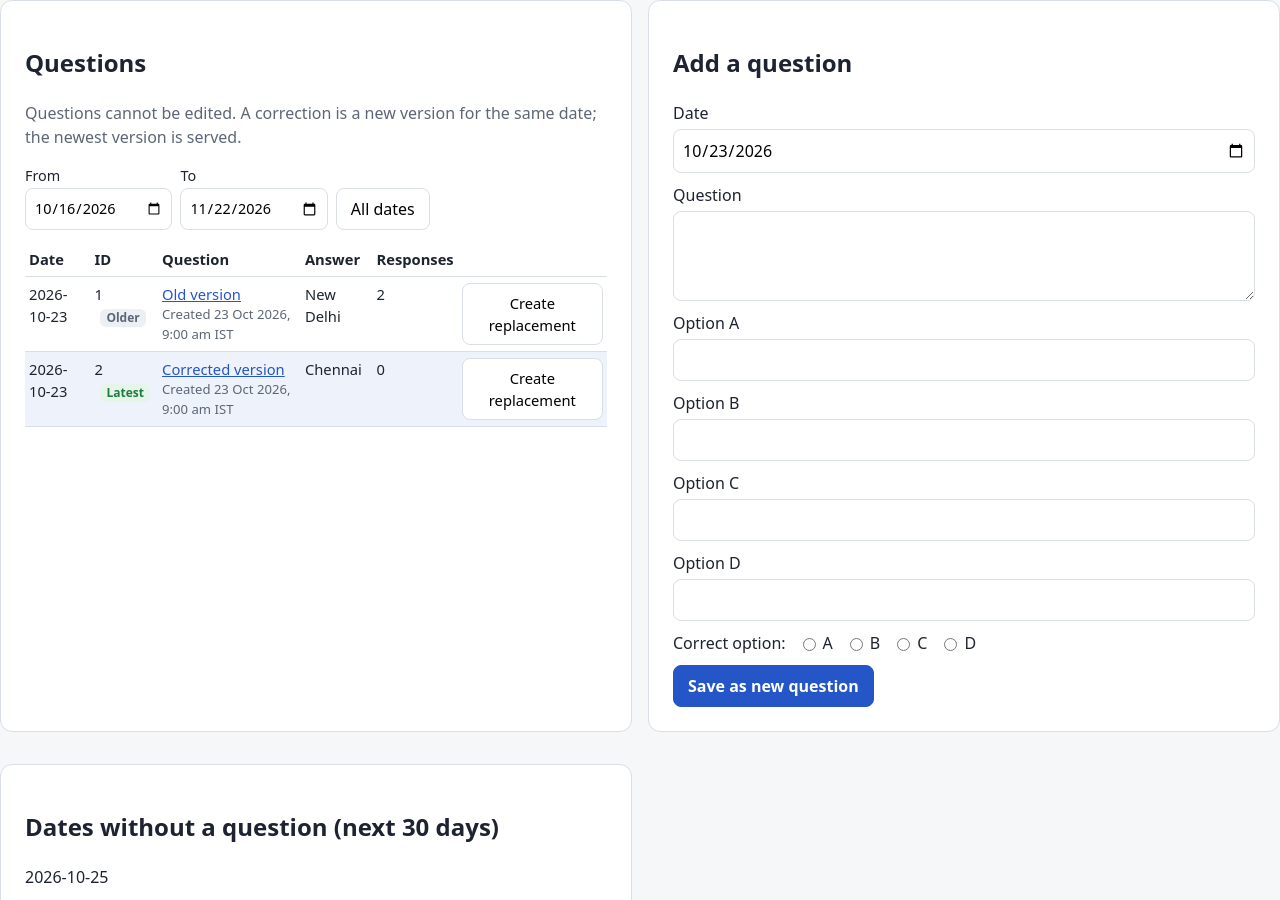
Test: Admin › converts the chosen correct option to its actual text before inserting
Type "Which planet is red?" into the text box labelled "Question" at (964, 256), box [673,211,1255,301]
Type "Venus" into the field labelled "Option A" at (964, 360), box [673,339,1255,381]
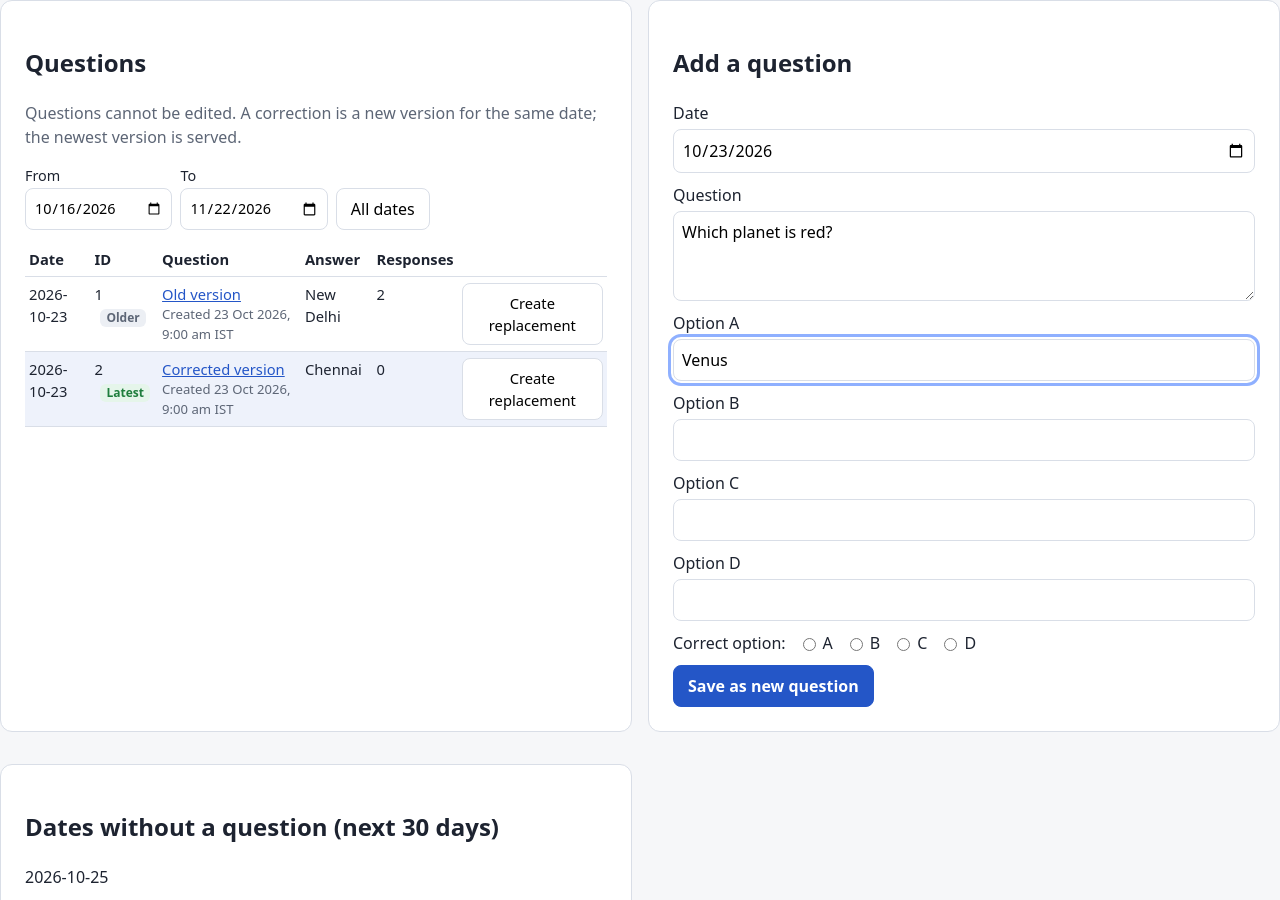
Type "Mars" into the field labelled "Option B" at (964, 440), box [673,419,1255,461]
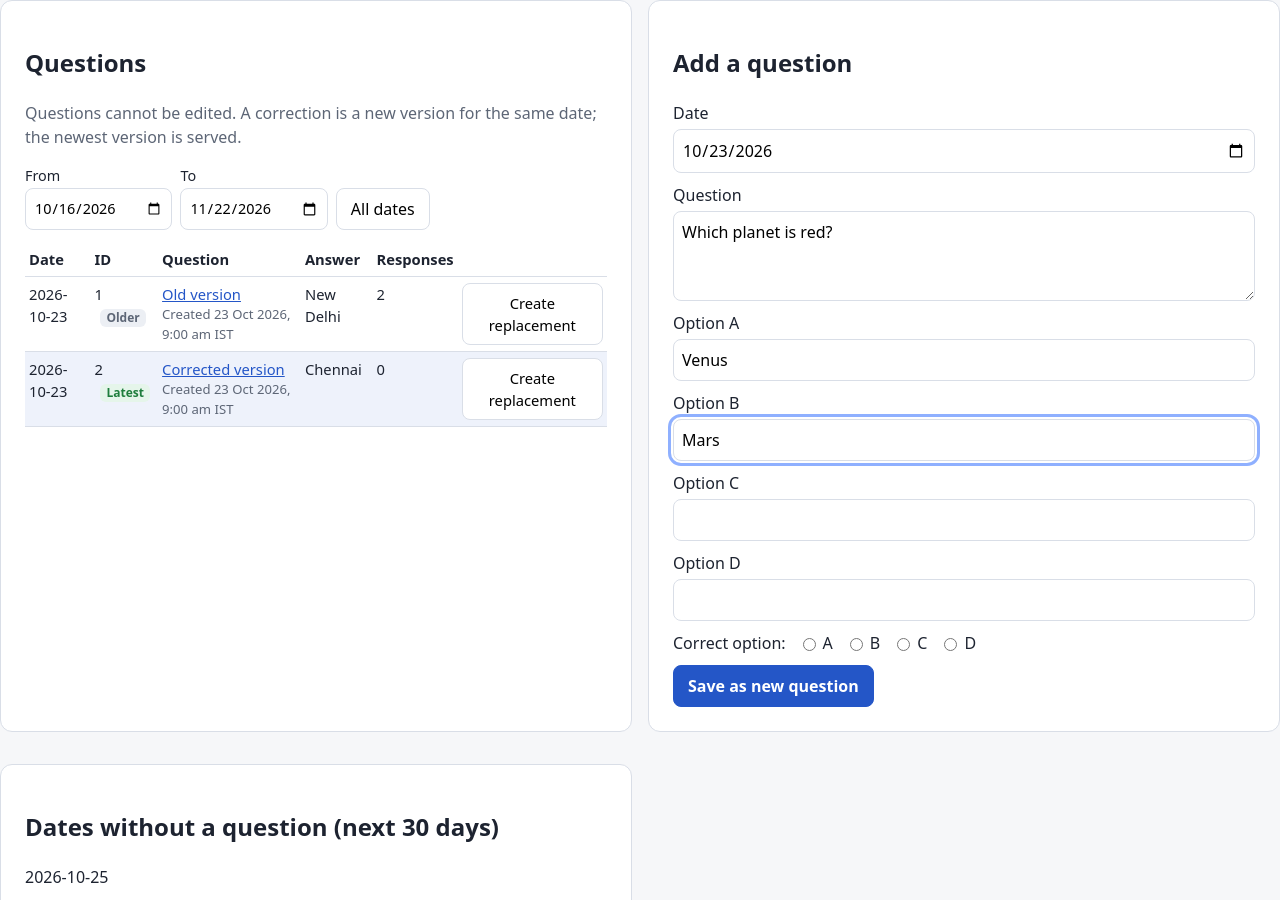
Type "Jupiter" into the field labelled "Option C" at (964, 520), box [673,499,1255,541]
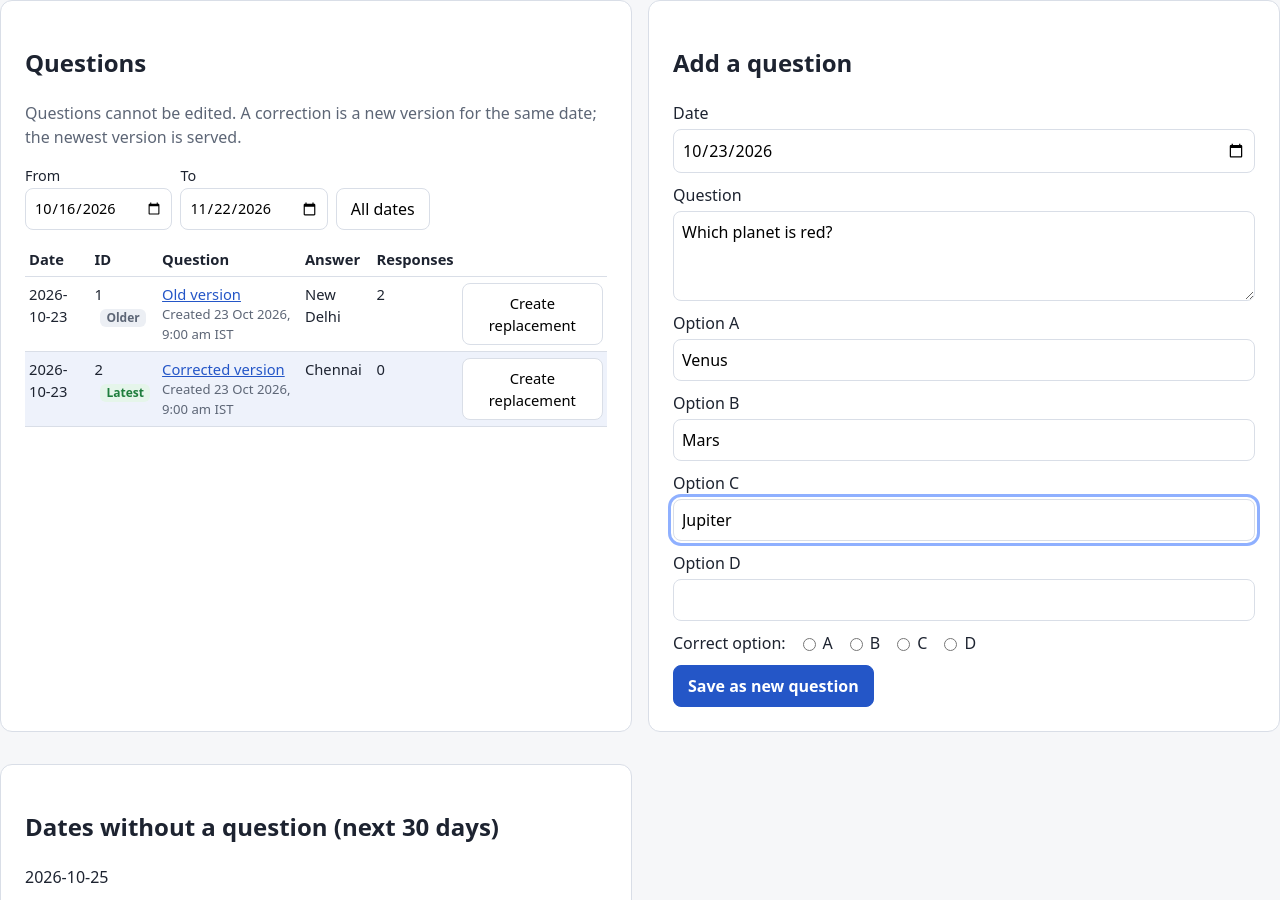
Type "Mercury" into the field labelled "Option D" at (964, 600), box [673,579,1255,621]
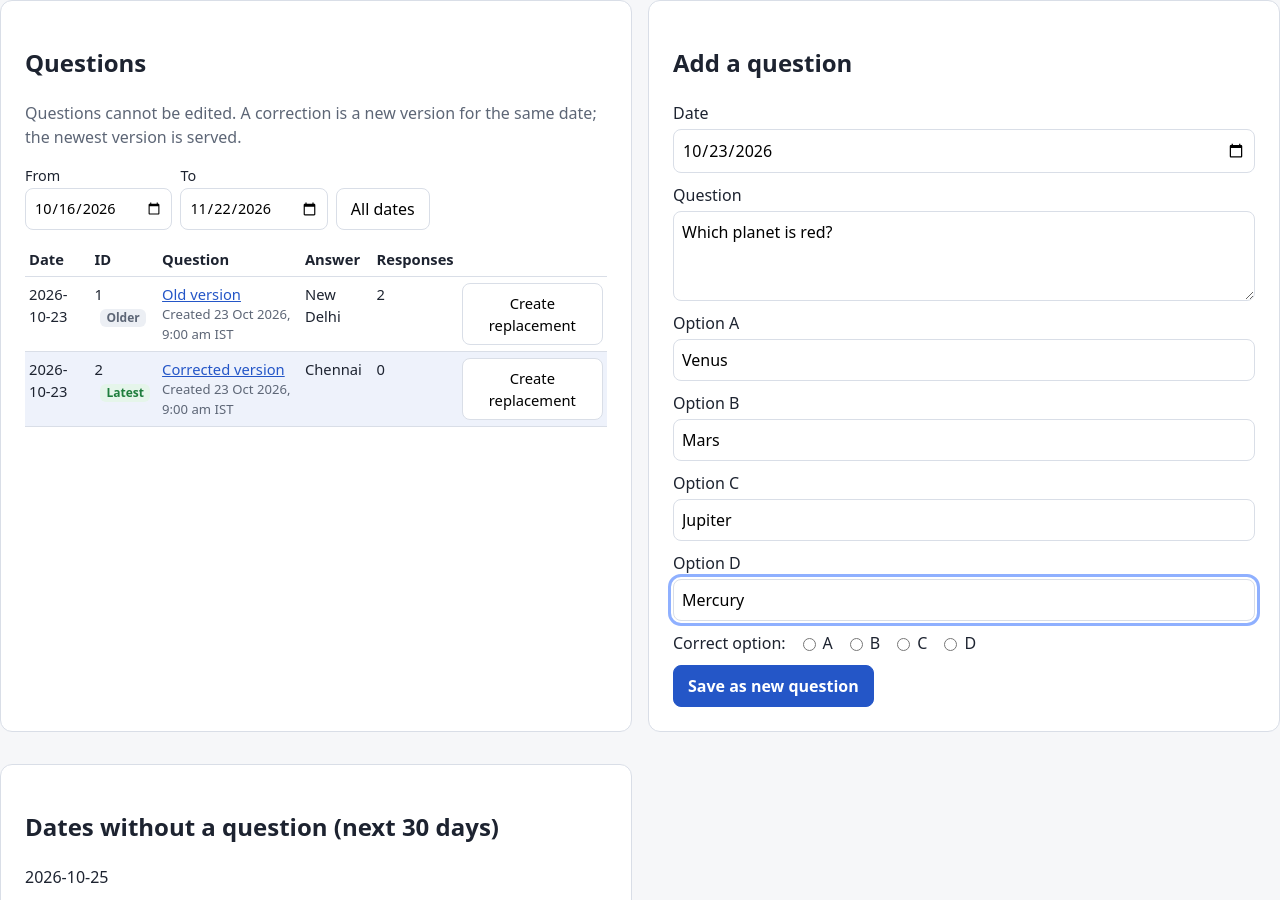
Click the radio button labelled "B" at (856, 644), box [850,634,863,655]
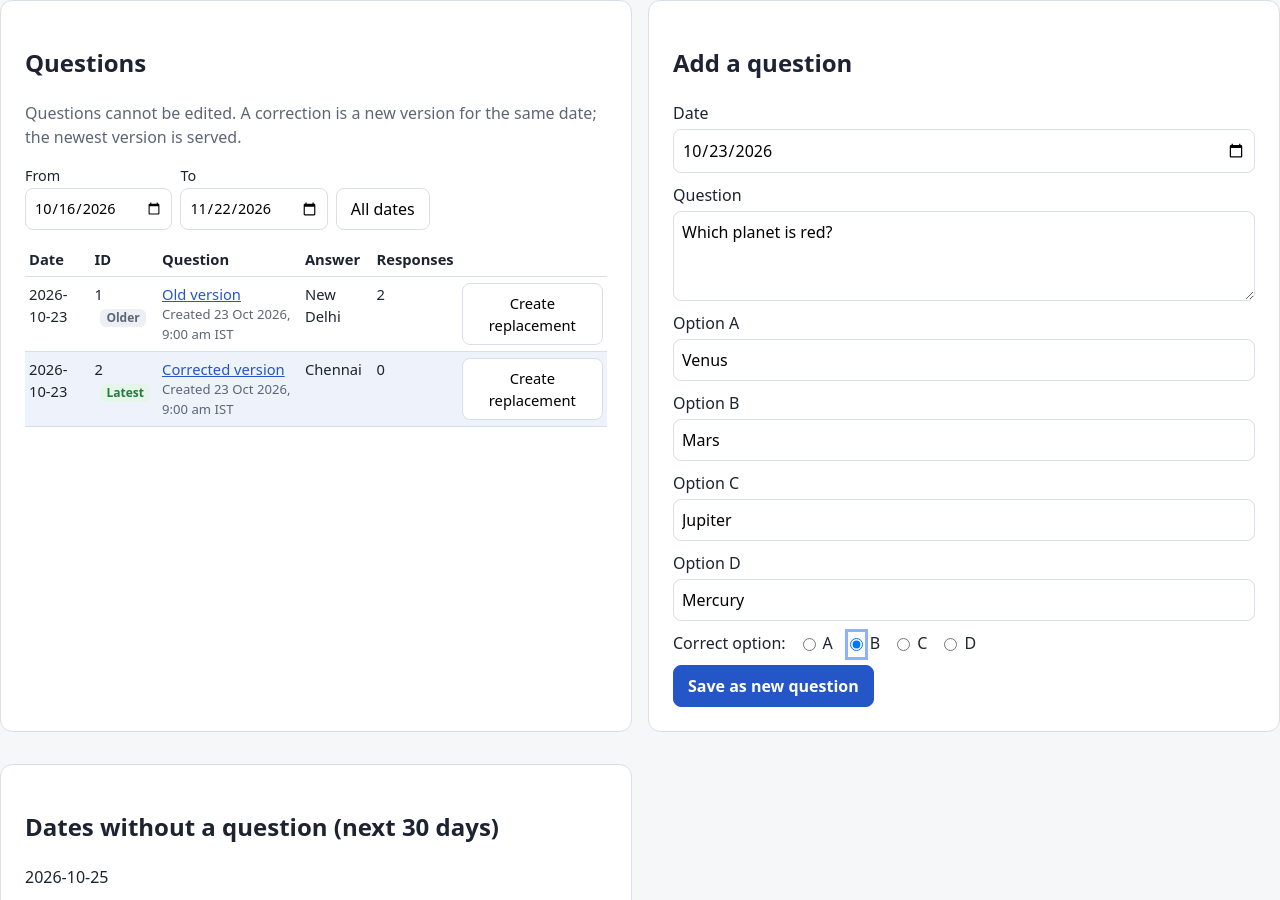
Click the button "Save as new question" at (773, 686), box [673,665,874,707]
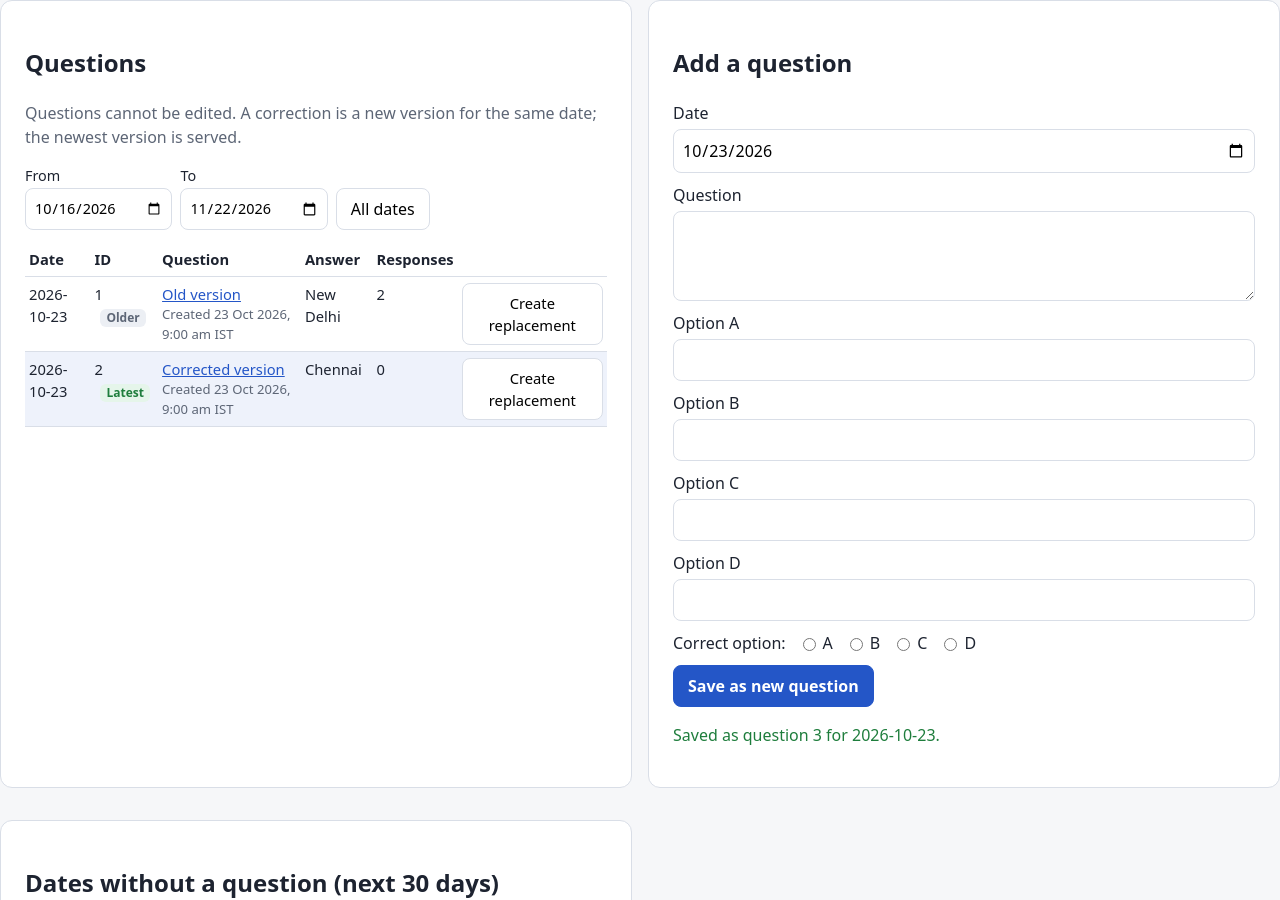
Expected: the text "Saved as question 3 for 2026-10-23." is shown, [673,724,940,746]
